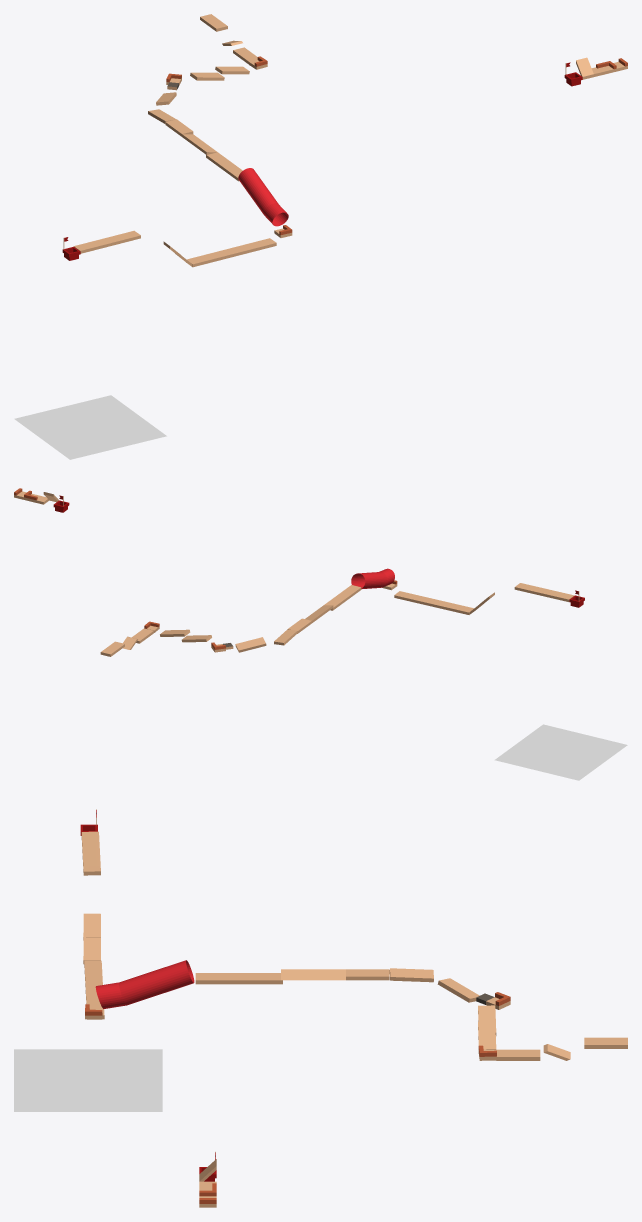
The model's file is MAP CITY BERES.gltf.
The picture shows the model from 3 angles, top to bottom: view 1: azimuth 30°, elevation 25°; view 2: azimuth 150°, elevation 25°; view 3: azimuth 270°, elevation 25°; orthographic projection. The views are drawn at different scales.
Visible parts, largest first — view 1: Plane.001, Plane, Cylinder, floor.010, floor.011; view 2: Plane.001, Cylinder, floor.010, floor.011; view 3: Plane.001, Plane, Cylinder, floor, floor.011, floor.010, floor.006.
Boxes of the visible parts, x1,y1,x2,y2 form: Plane.001: (14, 395, 166, 459); Plane: (47, 408, 134, 445); Cylinder: (238, 168, 288, 226); floor.010: (187, 238, 276, 267); floor.011: (74, 230, 140, 253); Plane.001: (494, 724, 627, 780); Cylinder: (351, 568, 394, 589); floor.010: (394, 591, 473, 614); floor.011: (514, 583, 574, 601); Plane.001: (14, 1049, 162, 1111); Plane: (45, 1062, 131, 1098); Cylinder: (95, 960, 194, 1008); floor: (281, 969, 389, 980); floor.011: (81, 831, 100, 875); floor.010: (84, 960, 104, 1019); floor.006: (389, 968, 433, 982).
Size of what is drawn, in the model's own units: 221 by 67.83 by 141.
Materials: 20 (19 with a texture image).
